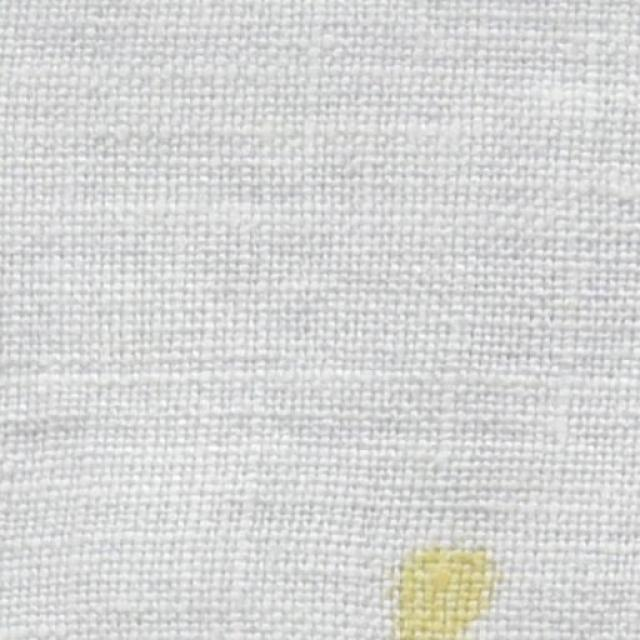Stain: (388, 545, 502, 639)
